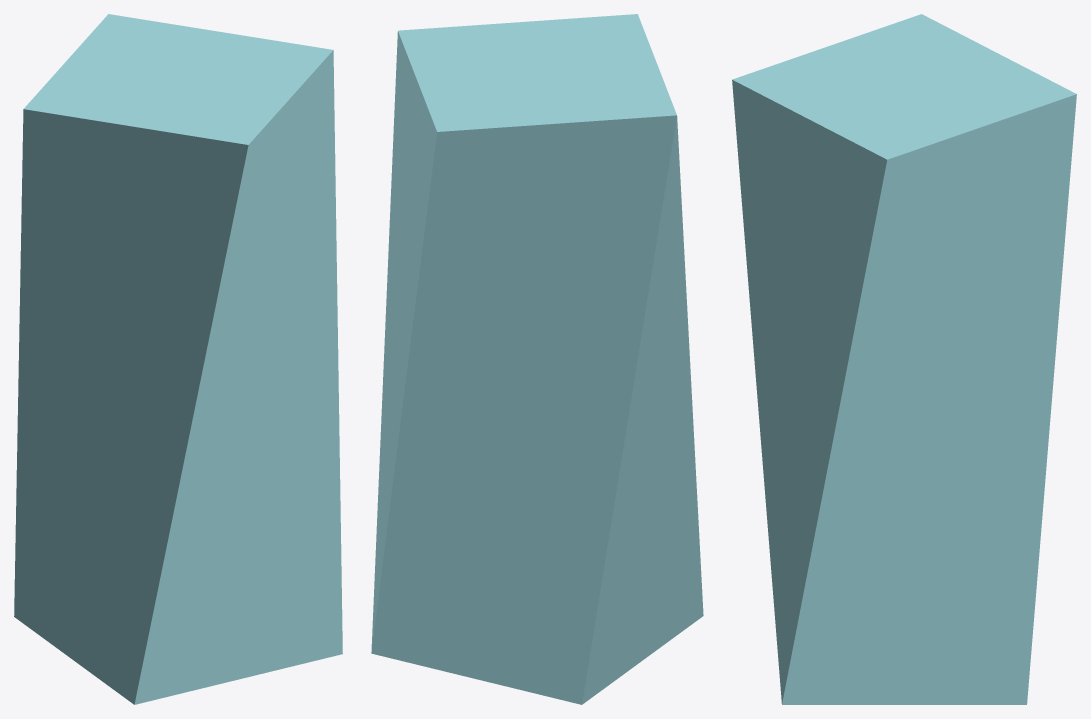
The model's file is Support_verre.fbx.
3 views of the same model, side by side, from view 1: azimuth 30°, elevation 25°; view 2: azimuth 150°, elevation 25°; view 3: azimuth 270°, elevation 25° (orthographic).
Parts seen in each view (by area): view 1: Cube; view 2: Cube; view 3: Cube.
Part boxes in pixels (x1,y1,x2,y2): Cube: (14,14,342,704); Cube: (371,14,703,704); Cube: (732,14,1076,704).
Size of the model in its own units: 281 by 510 by 281.
